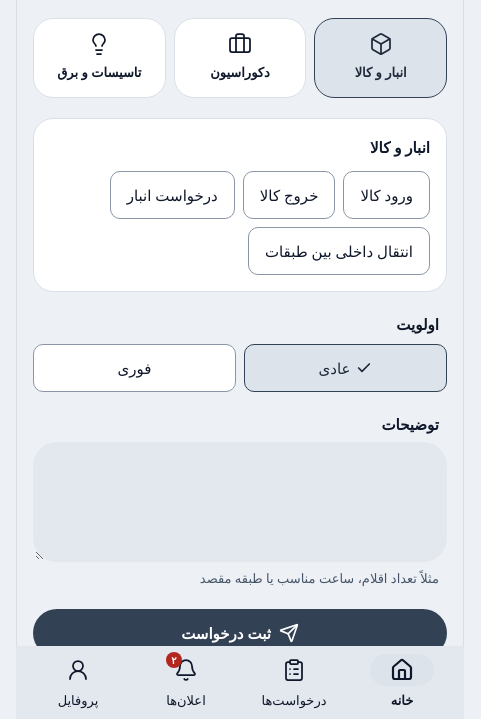
Test: forms › general services: requires a chip, then submits with a tracking id
The width and height of the screenshot is (481, 719).
What coordinates should you click on to do the following:
click the button "ثبت درخواست"
I would click on:
 (240, 633)
Its box is 33,609 -> 447,657.
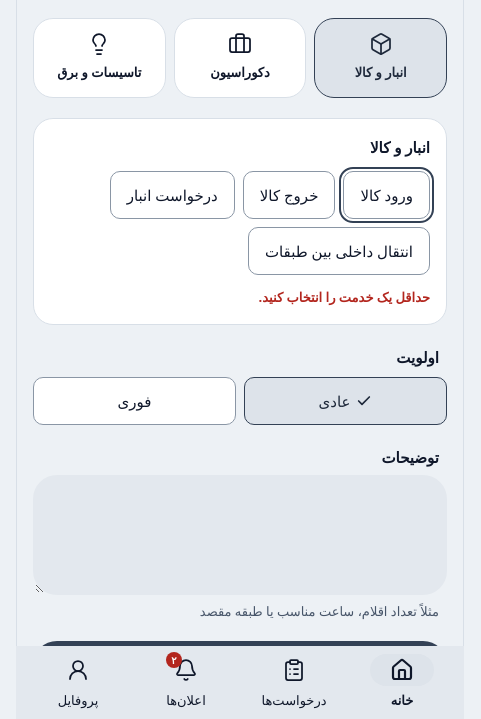
expect the message shows "حداقل یک خدمت": met, box 258,288 -> 430,306
What coordinates should you click on to do the following:
click the button "ورود کالا"
I would click on:
 (387, 195)
Its box is 343,171 -> 430,219.
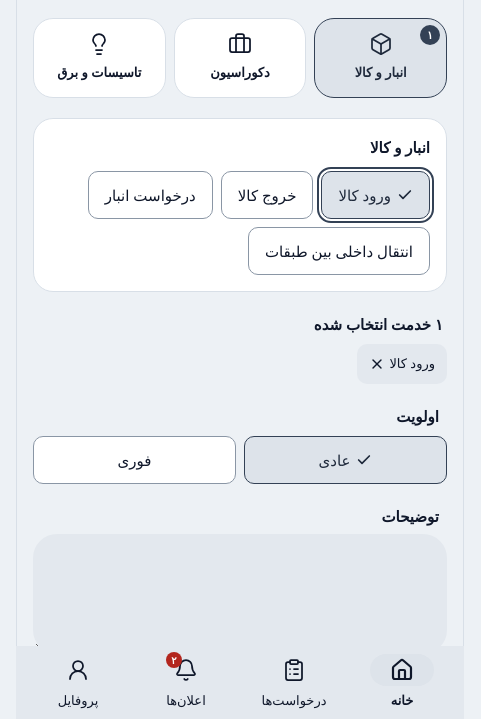
What coordinates should you click on to do the following:
click the tab "دکوراسیون"
I would click on:
 (240, 58)
Its box is 174,18 -> 306,98.
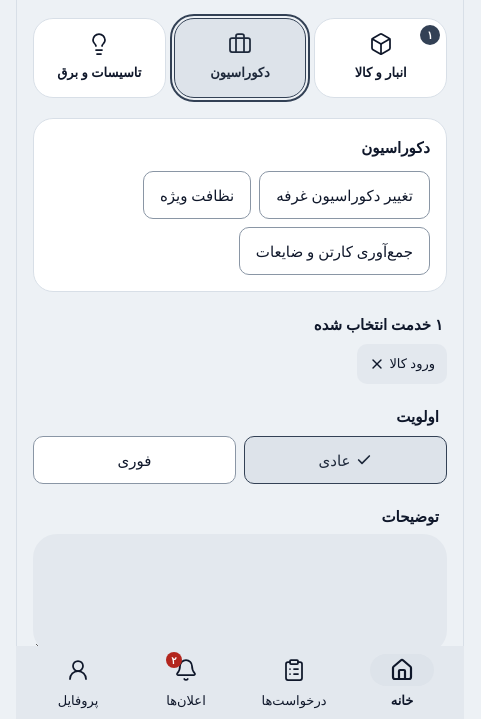
What coordinates should you click on to do the following:
click the button "نظافت ویژه"
I would click on:
 (197, 195)
Its box is 143,171 -> 251,219.
(page scrolled)
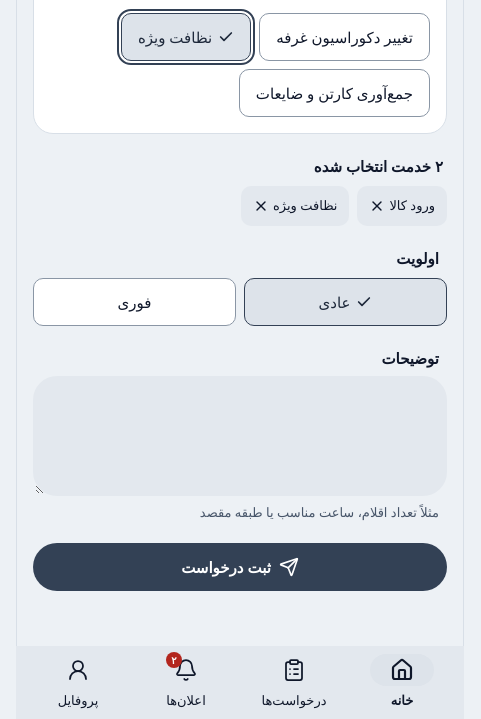
expect the text "۲ خدمت انتخاب شده" is shown: met, box 314,156 -> 443,176
What coordinates should you click on to do the following:
click the button "ثبت درخواست"
I would click on:
 (240, 567)
Its box is 33,543 -> 447,591.
(page scrolled)
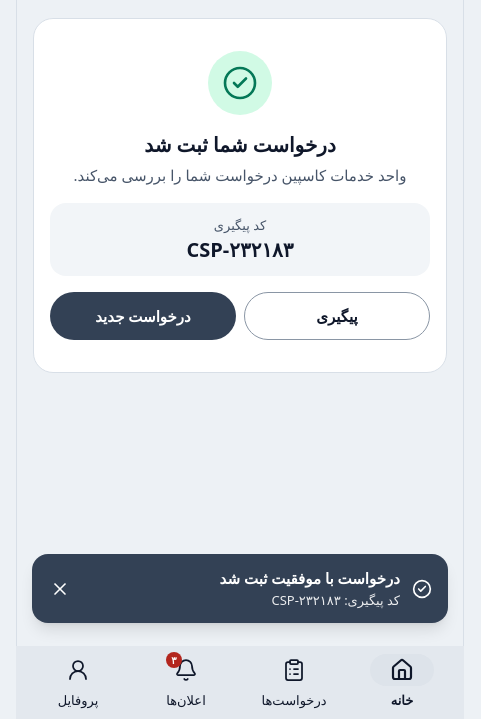
expect the heading "درخواست شما ثبت شد" is shown: met, box 144,131 -> 336,158
